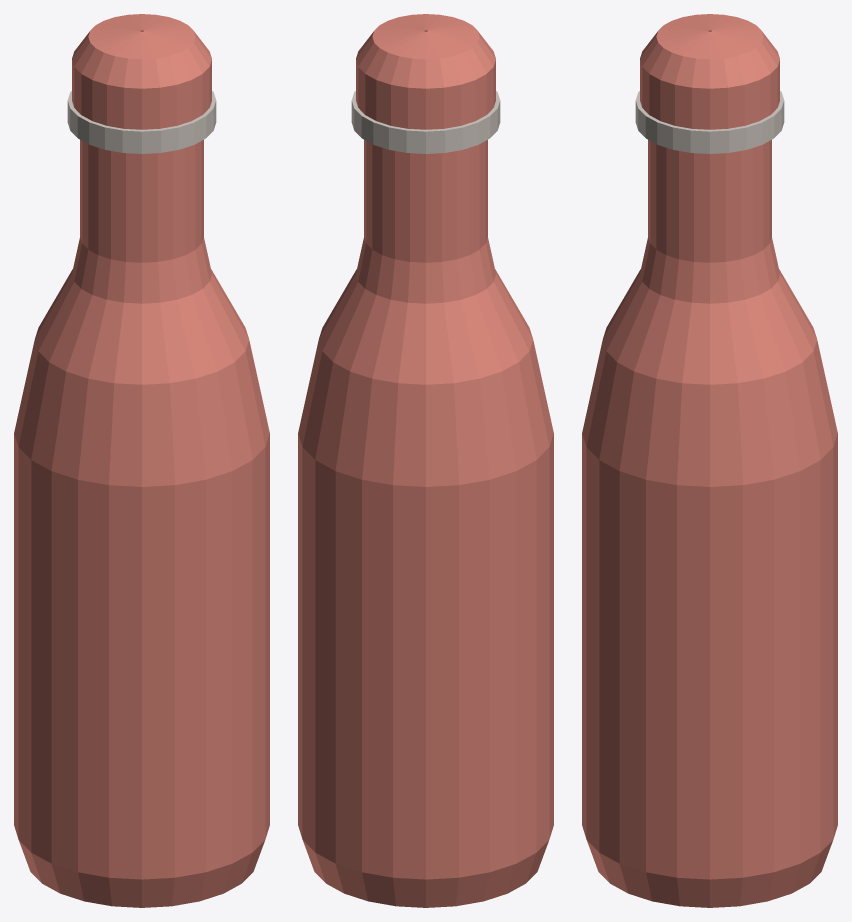
The model's file is item_76_thermos.glb.
3 renders of one model, left to right at view 1: azimuth 30°, elevation 25°; view 2: azimuth 150°, elevation 25°; view 3: azimuth 270°, elevation 25°, orthographic.
Visible parts, largest first — view 1: Thermos, Thermos_CapRing; view 2: Thermos, Thermos_CapRing; view 3: Thermos, Thermos_CapRing.
Boxes of the visible parts, bbox=[...] form: Thermos: bbox=[14, 14, 269, 907]; Thermos_CapRing: bbox=[67, 91, 216, 153]; Thermos: bbox=[298, 14, 553, 907]; Thermos_CapRing: bbox=[351, 91, 500, 153]; Thermos: bbox=[582, 14, 837, 907]; Thermos_CapRing: bbox=[635, 91, 784, 153].
Size of the model in its own units: 0.124 by 0.445 by 0.124.
